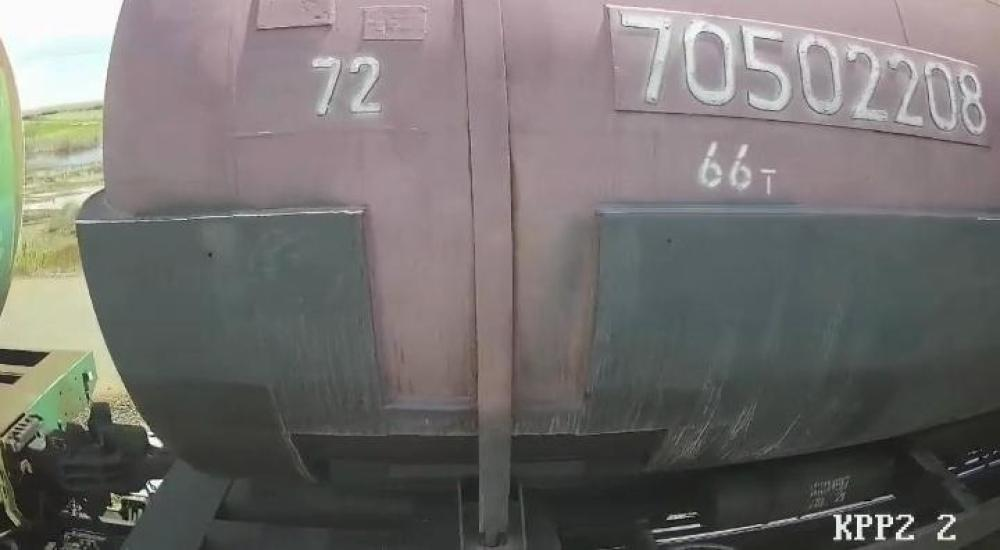Wagon-number: (614, 10, 988, 142)
